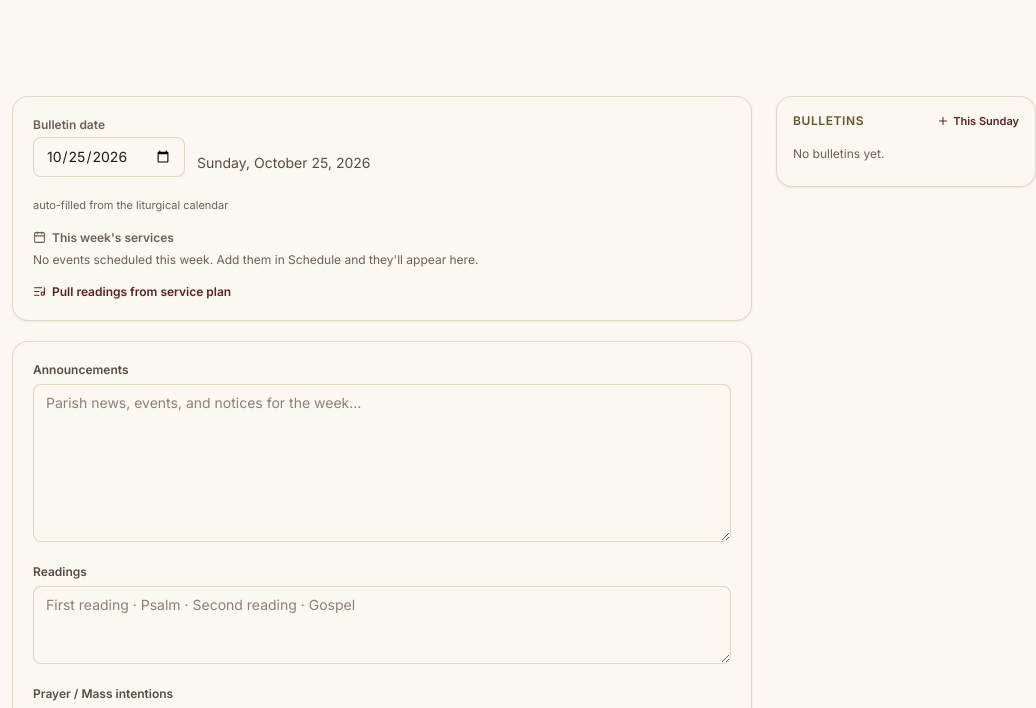
Test: a refused pull is not an empty date › a 500 on the matched plan does not claim it has no readings
Type "2026-10-04" into the date field labelled "Bulletin date" at (109, 157), box [33,137,185,177]
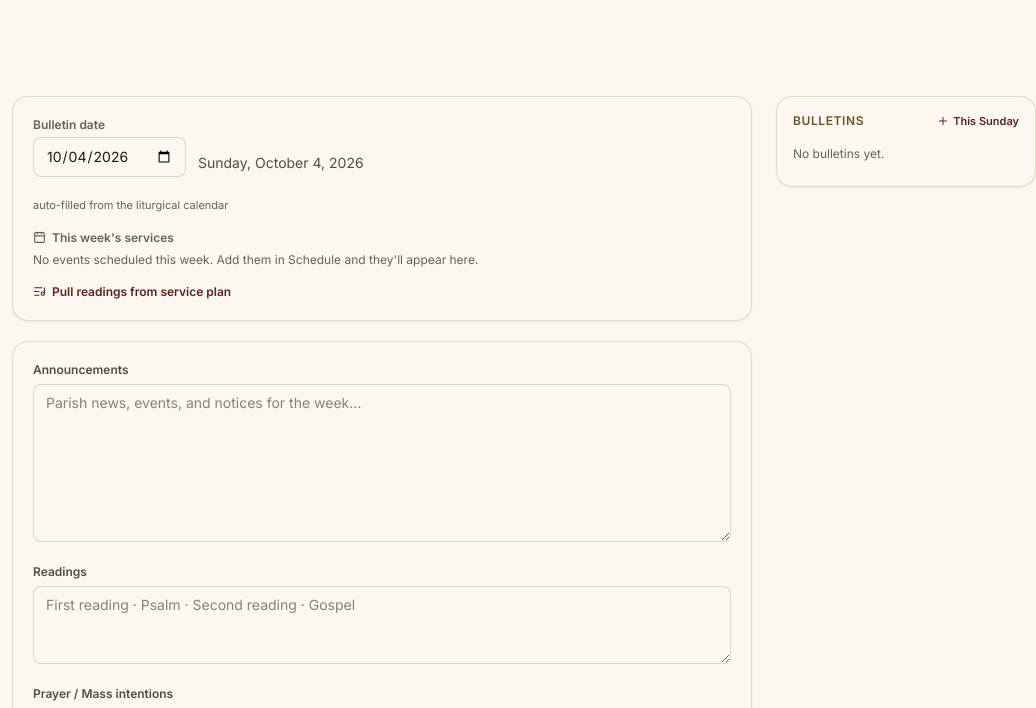
Click the button "Pull readings from service plan" at (132, 292), box [33,284,231,300]
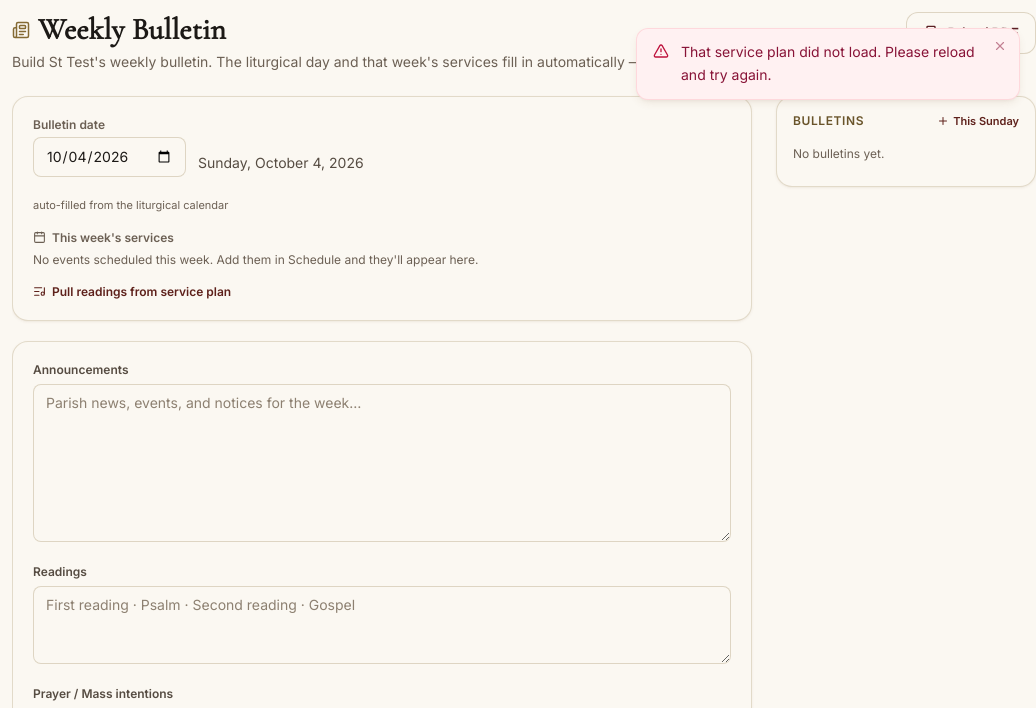
Check: the message shows "That service plan did not load", box [681,43,975,83]
